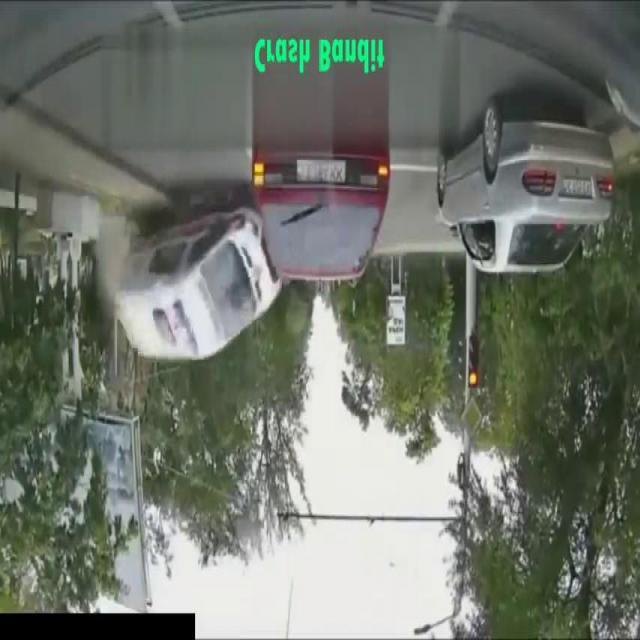severe: (114, 193, 285, 371)
